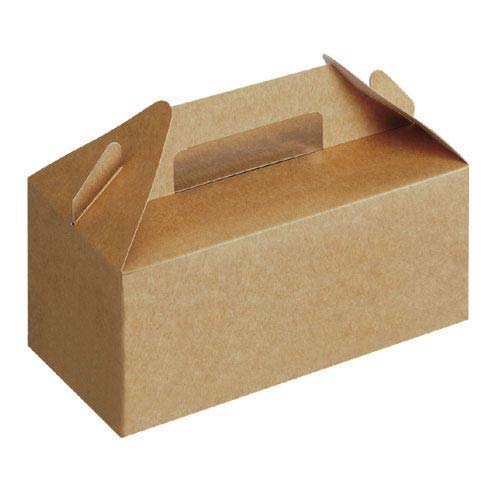Rec_Paper: (24, 51, 480, 437)
